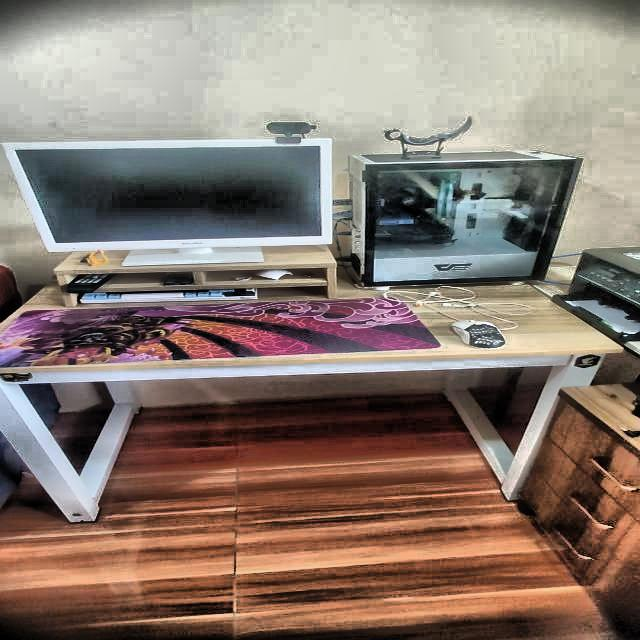mesa: (0, 274, 624, 526)
